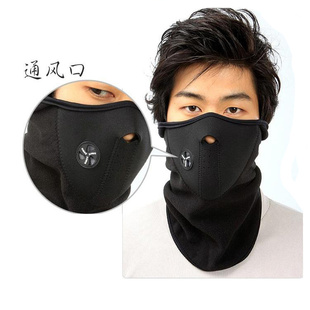face_mask: (48, 53, 155, 194), (164, 56, 263, 202)
